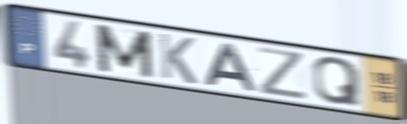4: (51, 18, 93, 71)
A: (203, 42, 261, 94)
K: (156, 31, 199, 87)
M: (91, 22, 156, 81)
Q: (311, 55, 363, 108)
Z: (256, 45, 311, 102)
